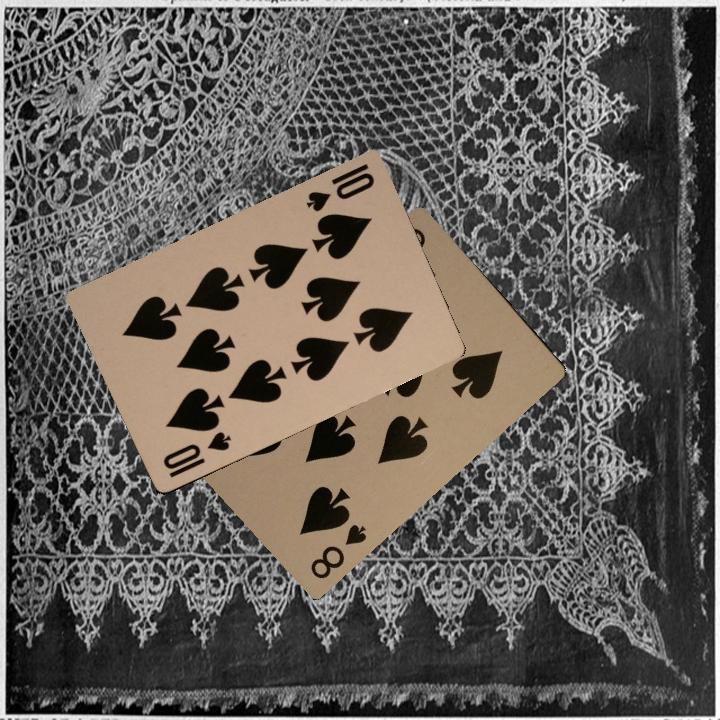10s: (302, 159, 378, 215), (159, 427, 234, 480)
8s: (306, 519, 370, 582)
